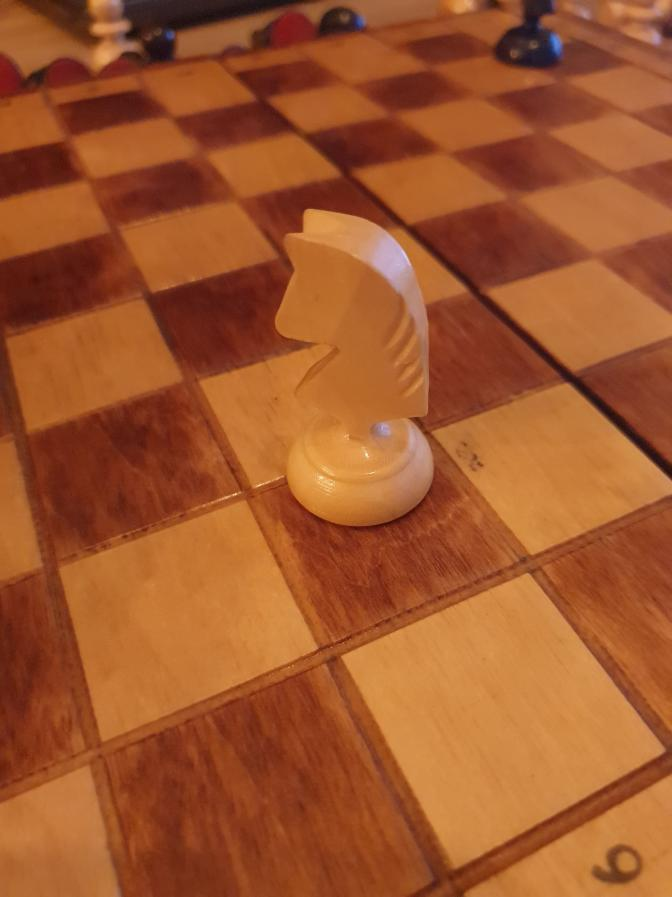wknight: (272, 205, 436, 530)
